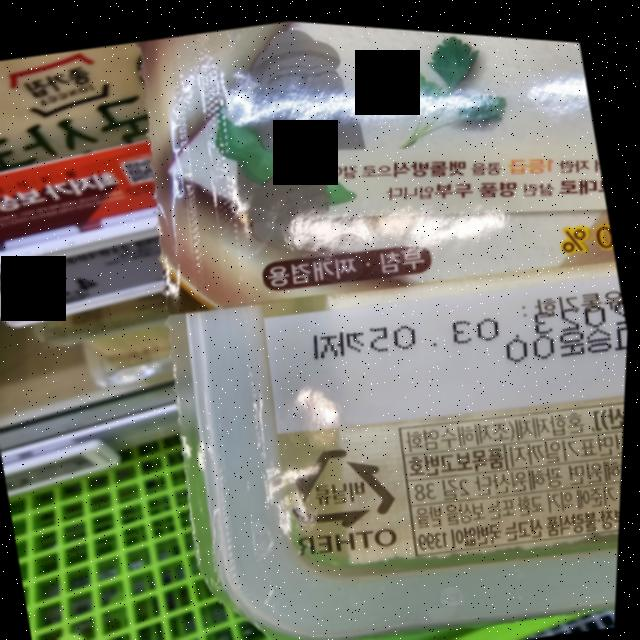Vinyl: (283, 424, 411, 537)
